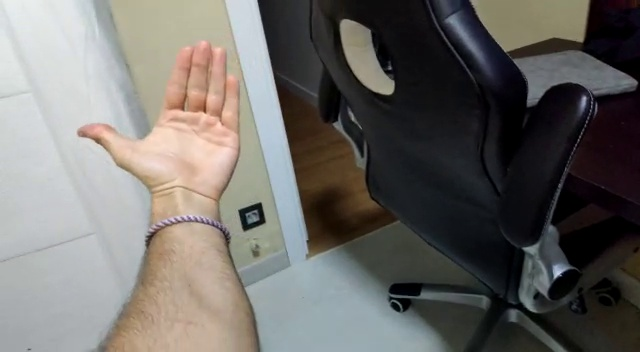Palm: (75, 37, 242, 198)
